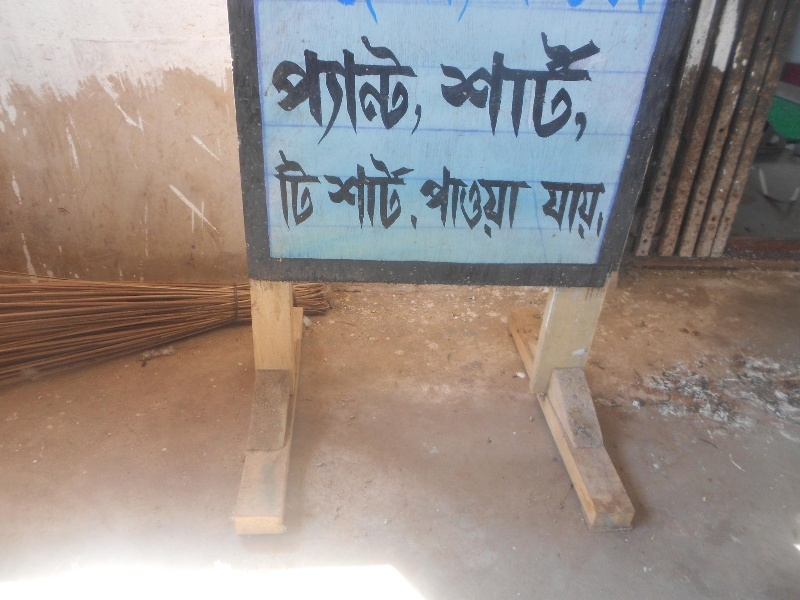text: (273, 29, 288, 152), (289, 29, 304, 152), (305, 29, 320, 152), (321, 29, 336, 152), (337, 29, 352, 152), (353, 29, 368, 152), (369, 29, 384, 152), (385, 29, 400, 152), (401, 29, 416, 152), (449, 31, 464, 145), (465, 31, 480, 145), (481, 31, 496, 145), (497, 31, 512, 145), (513, 31, 528, 145), (529, 31, 544, 145), (545, 31, 560, 145), (561, 31, 576, 145), (577, 31, 592, 145), (593, 31, 606, 145), (289, 148, 304, 229), (305, 148, 320, 229), (321, 152, 336, 233), (337, 152, 352, 233), (353, 152, 368, 233), (369, 152, 384, 233), (385, 152, 400, 233), (401, 152, 416, 233), (274, 148, 288, 229), (433, 166, 448, 239), (449, 166, 464, 239), (465, 166, 480, 239), (481, 166, 496, 239), (497, 166, 512, 239), (513, 166, 528, 239), (439, 31, 448, 145), (545, 176, 560, 242), (561, 176, 576, 242), (577, 176, 592, 242), (593, 176, 608, 242), (420, 166, 432, 239), (417, 29, 424, 152), (529, 166, 536, 239), (539, 176, 544, 242), (417, 152, 420, 233), (271, 29, 272, 152), (321, 148, 322, 229)
